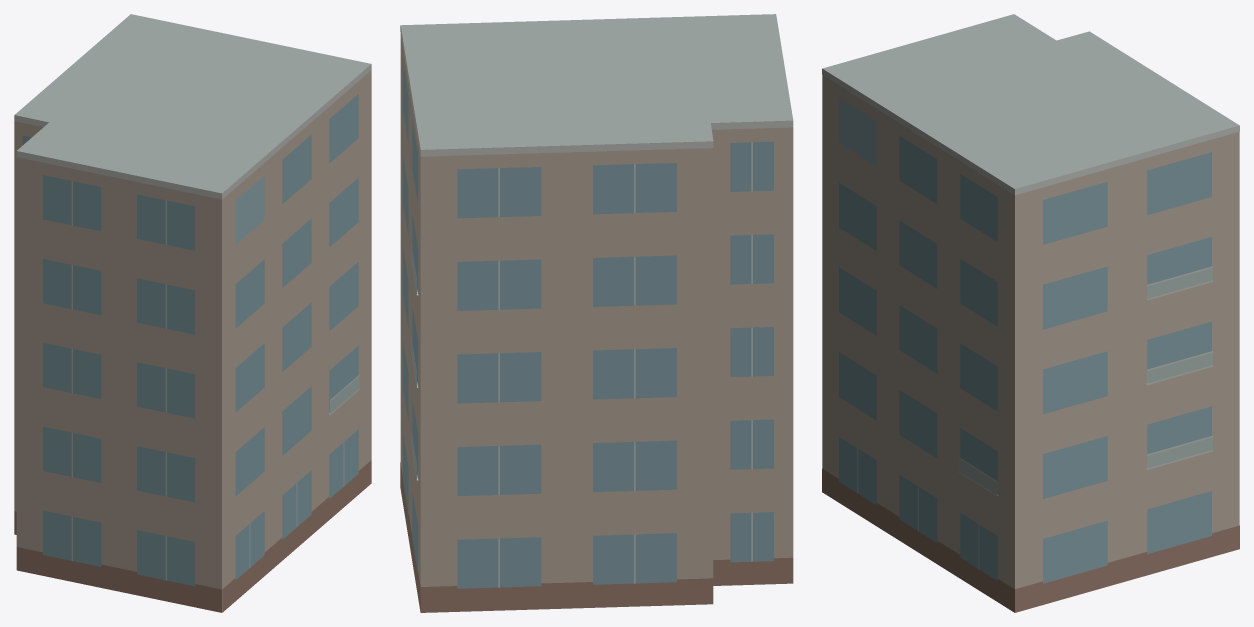
File: survey-upis-32923341.glb
The picture shows the model from 3 angles, left to right: view 1: azimuth 30°, elevation 25°; view 2: azimuth 150°, elevation 25°; view 3: azimuth 270°, elevation 25°; orthographic projection. The views are drawn at different scales.
Visible parts, largest first — view 1: survey-upis-32923341.tmp; view 2: survey-upis-32923341.tmp; view 3: survey-upis-32923341.tmp.
Part boxes in pixels (bbox=[...]): survey-upis-32923341.tmp: bbox=[14, 14, 371, 612]; survey-upis-32923341.tmp: bbox=[400, 14, 793, 612]; survey-upis-32923341.tmp: bbox=[822, 14, 1239, 612].
Bounding box in the file's own units: 14.8 × 16.68 × 14.91.
